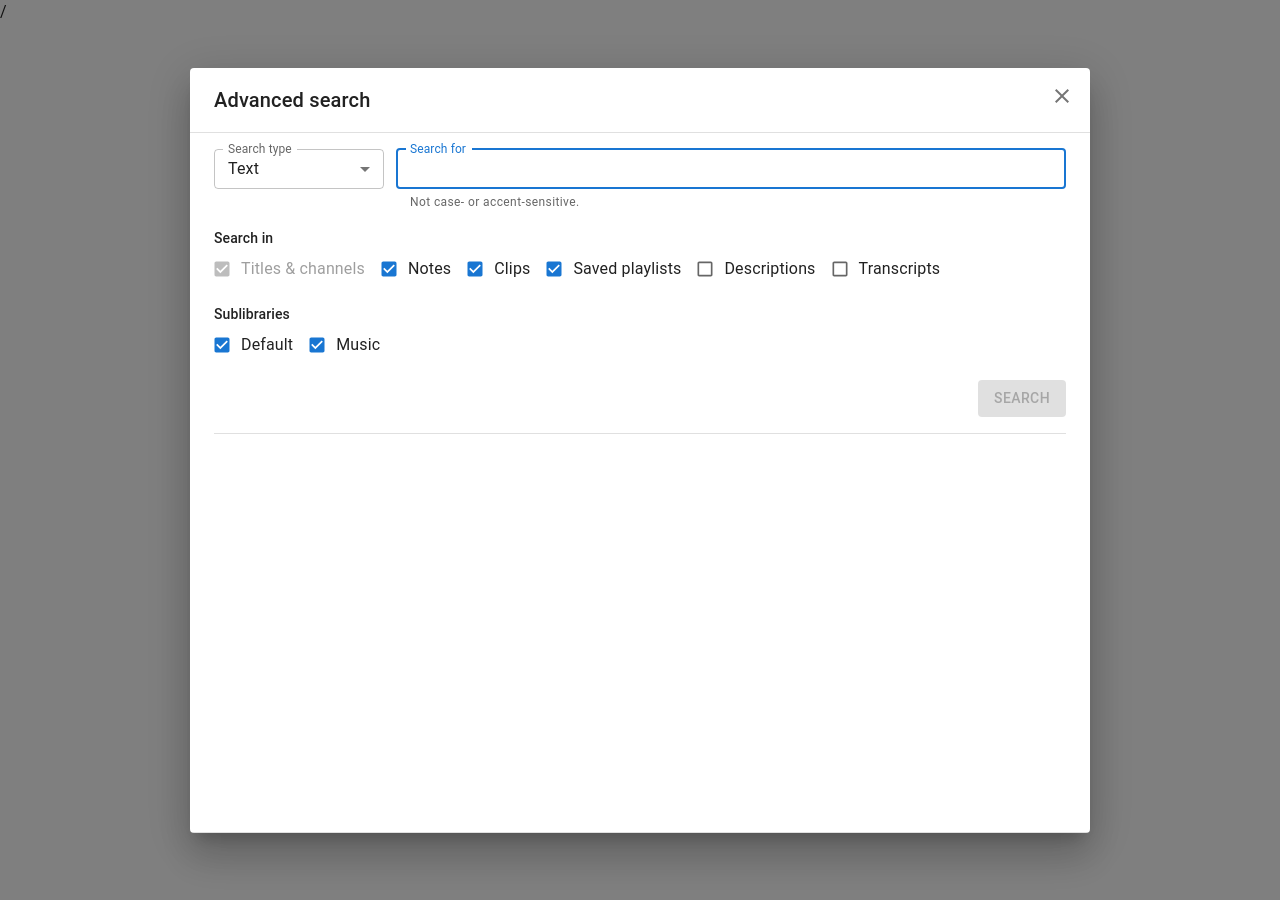
Test: AdvancedSearchDialog › flags an invalid regex and won't run it
Step 1. Click the dropdown named "Search type" → point(244, 168), box [228,159,259,178]
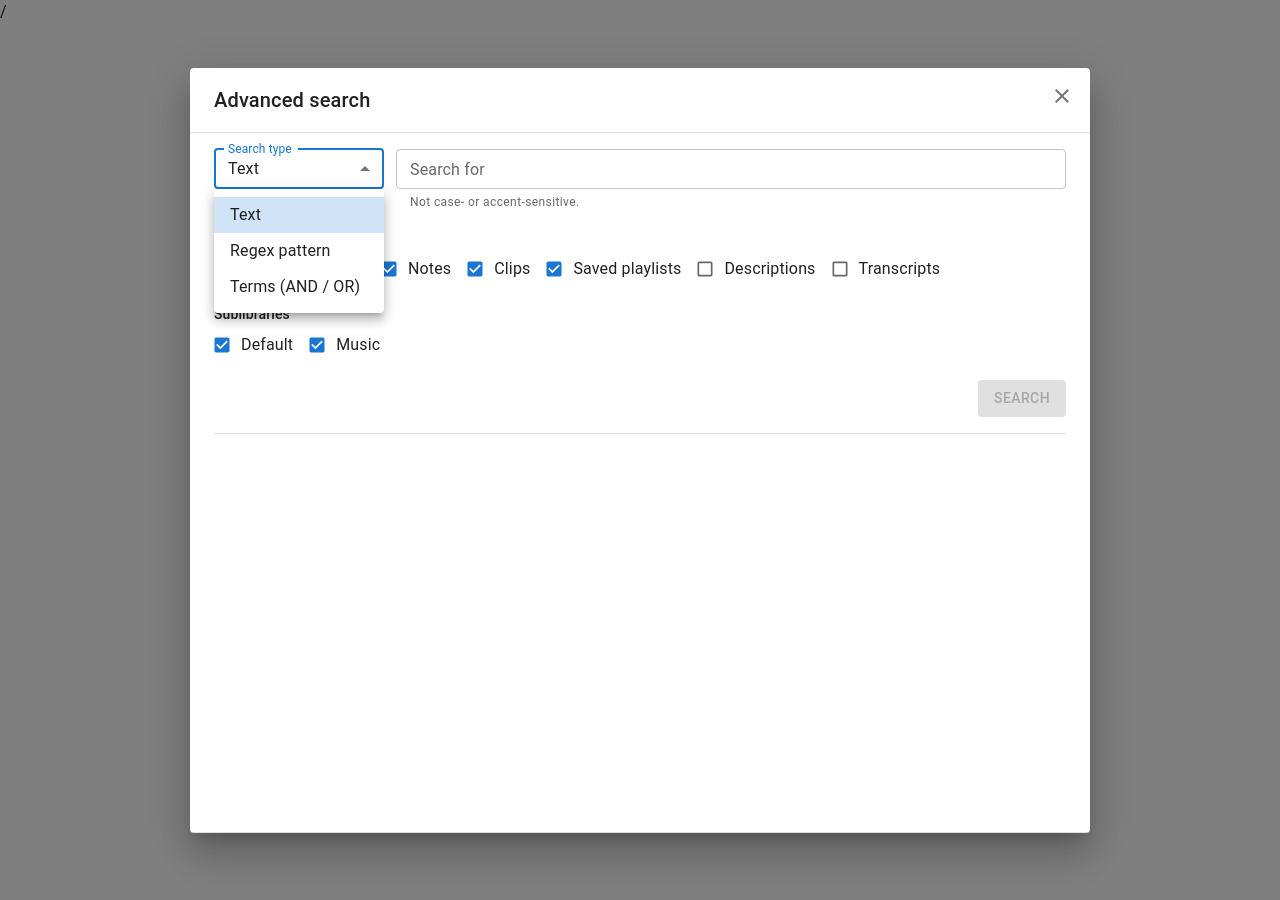
Step 2. Click the option "Regex pattern" → point(280, 250), box [230,241,331,260]
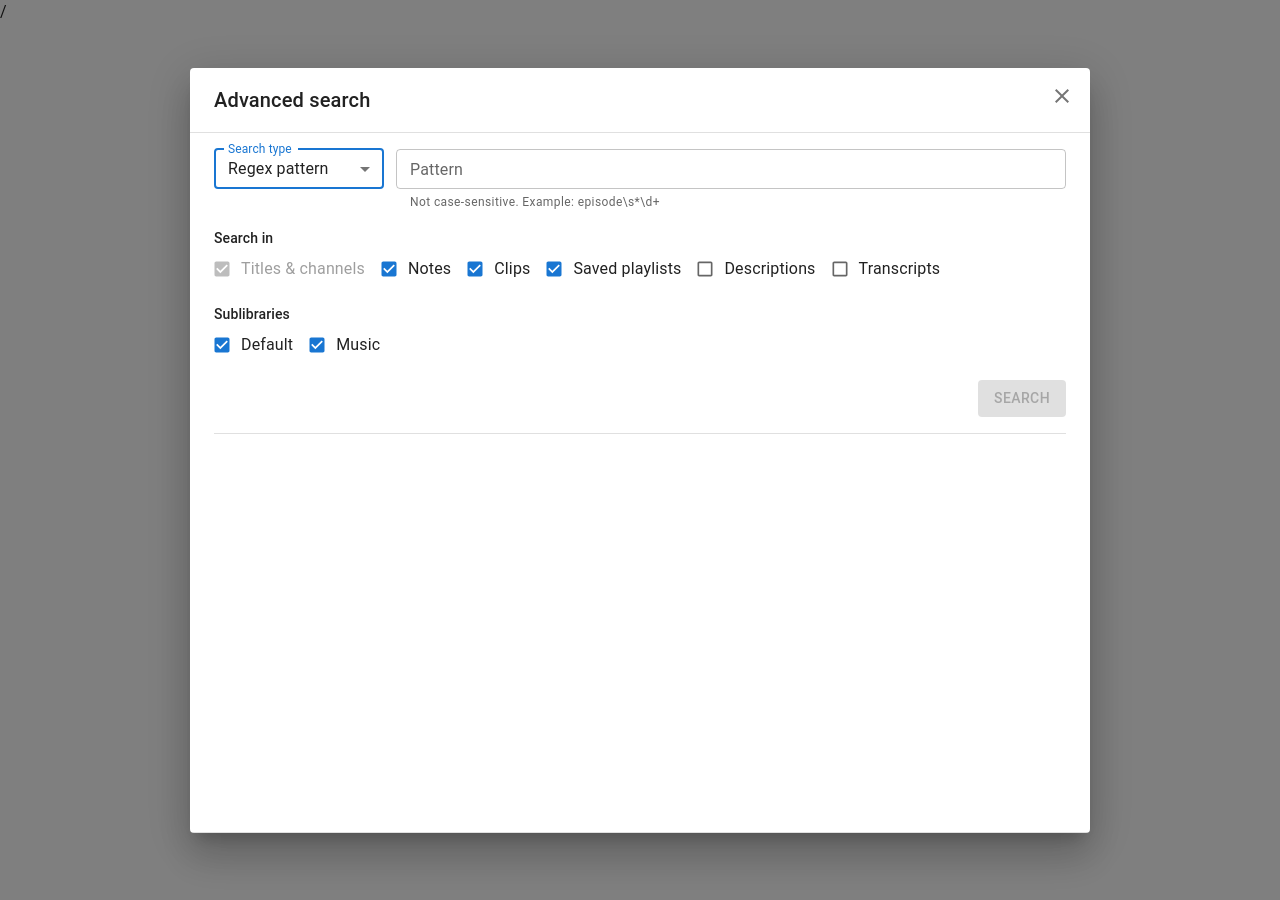
Step 3. Type "(oops" into the field labelled "Pattern" → point(731, 168), box [396,148,1066,188]
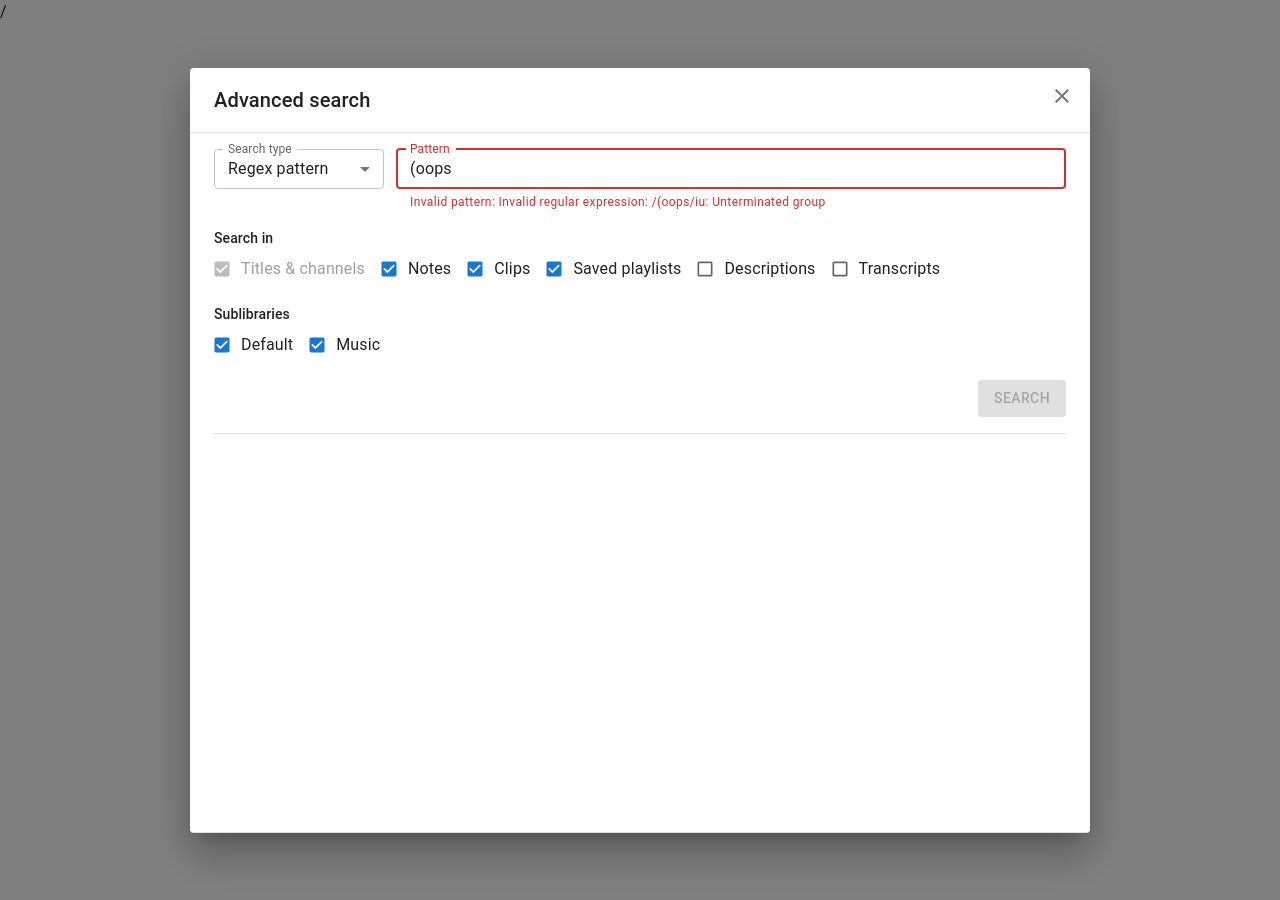
Expected: the button "Search" is disabled, [978,380,1066,417]
Now the text "Invalid pattern:" is shown, box [410,194,826,208]
